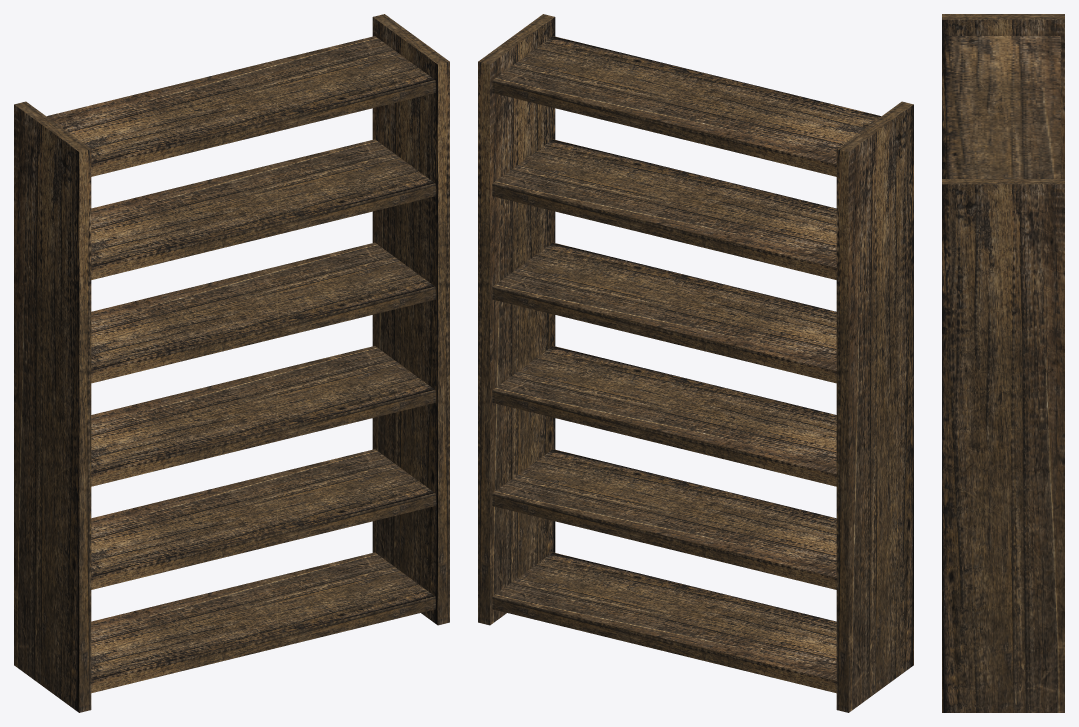
The model's file is bookshelf.fbx.
3 renders of one model, left to right at view 1: azimuth 30°, elevation 25°; view 2: azimuth 150°, elevation 25°; view 3: azimuth 270°, elevation 25°, orthographic. The views are drawn at different scales.
Visible parts, largest first — view 1: Cube; view 2: Cube; view 3: Cube.
Part boxes in pixels (x1,y1,x2,y2): Cube: (14,14,449,712); Cube: (478,14,913,712); Cube: (942,14,1064,712).
Size of the model in its own units: 161 by 233 by 49.08.
Materials: 1 (1 with a texture image).
